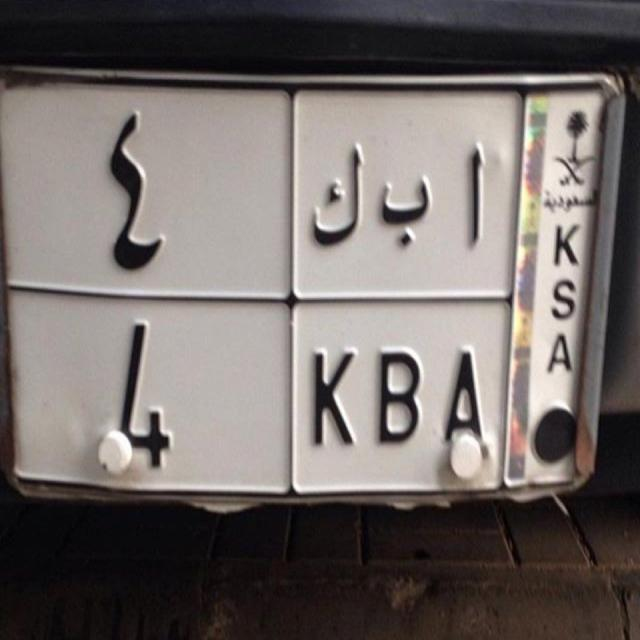license_plate: (62, 305, 491, 460)
